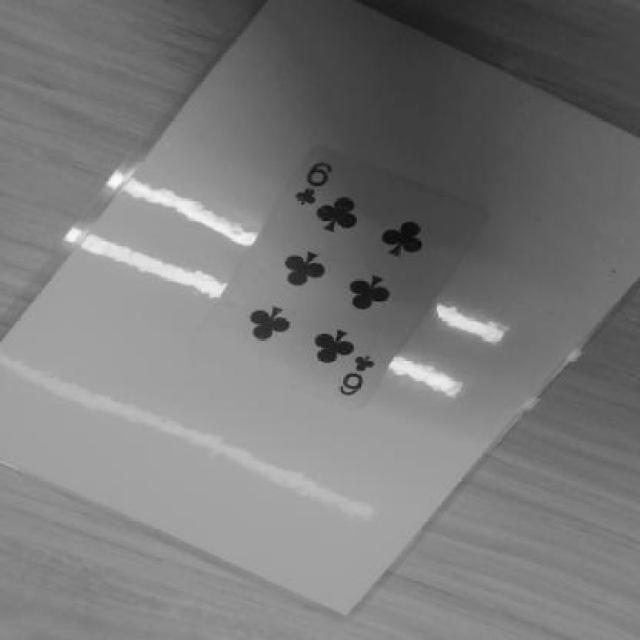6C: (281, 160, 337, 212), (334, 353, 384, 402)
